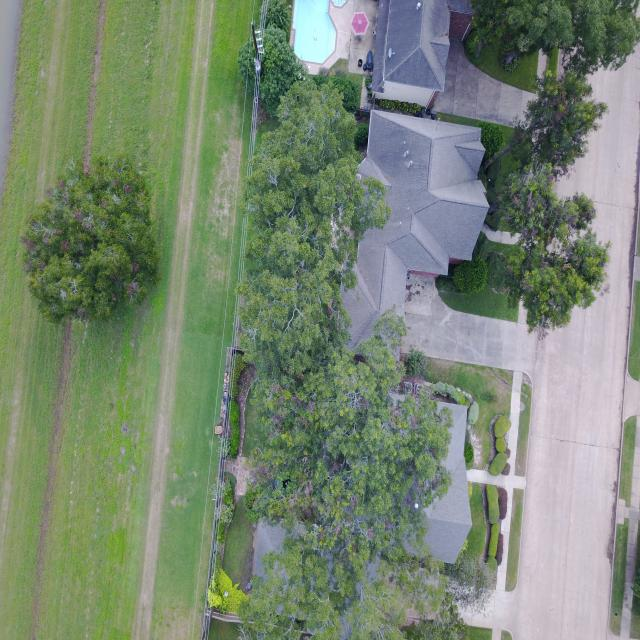fire: (0, 0, 20, 195)
